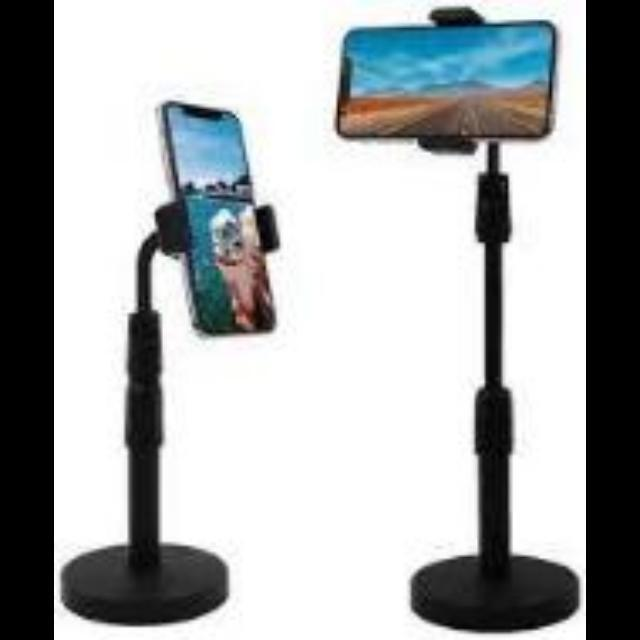PhoneUse: (150, 102, 288, 350), (342, 22, 560, 146)
